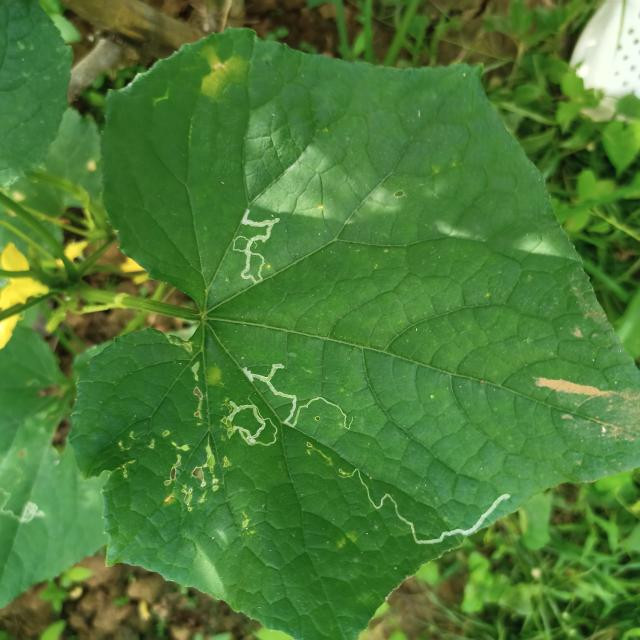disease_cucumber: (199, 43, 243, 99)
